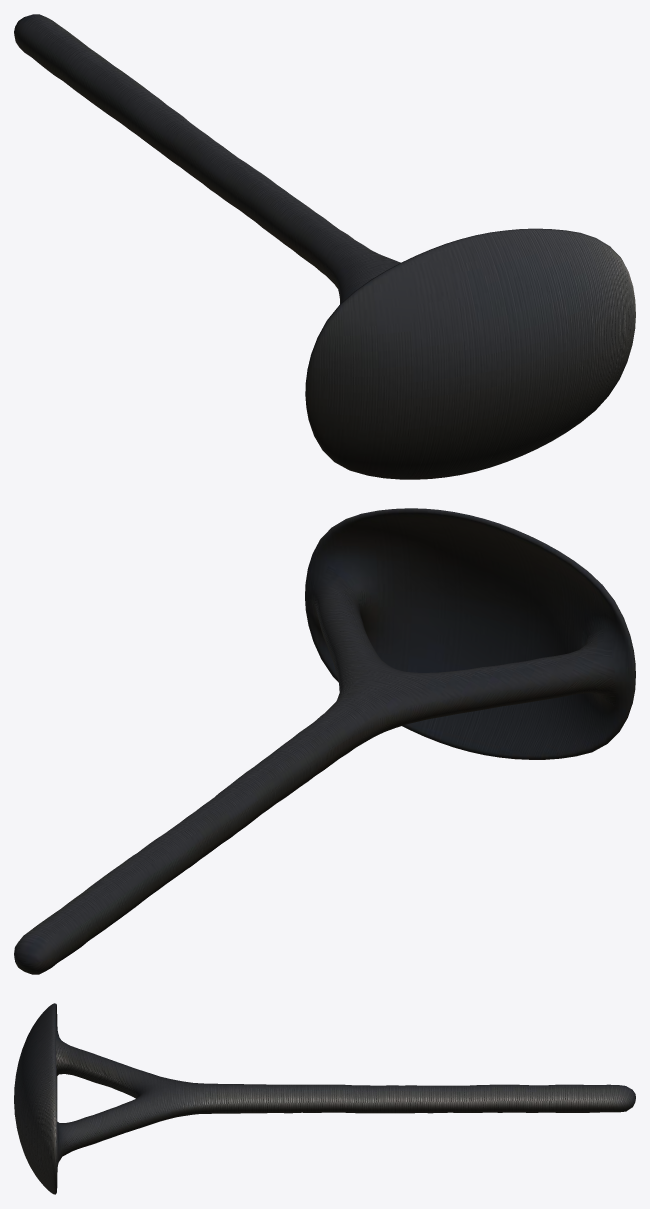
Rendered from 06_YCrane.glb.
3 renders of one model, top to bottom at view 1: azimuth 30°, elevation 25°; view 2: azimuth 150°, elevation 25°; view 3: azimuth 270°, elevation 25°, orthographic. The views are drawn at different scales.
Visible parts, largest first — view 1: 06_Y Crane; view 2: 06_Y Crane; view 3: 06_Y Crane.
Boxes of the visible parts, x1,y1,x2,y2 form: 06_Y Crane: (14,14,635,479); 06_Y Crane: (14,508,635,974); 06_Y Crane: (14,1003,635,1194).
Bounding box in the file's own units: 0.0649 × 0.0443 × 0.1628.
Materials: 1 (1 with a texture image).
